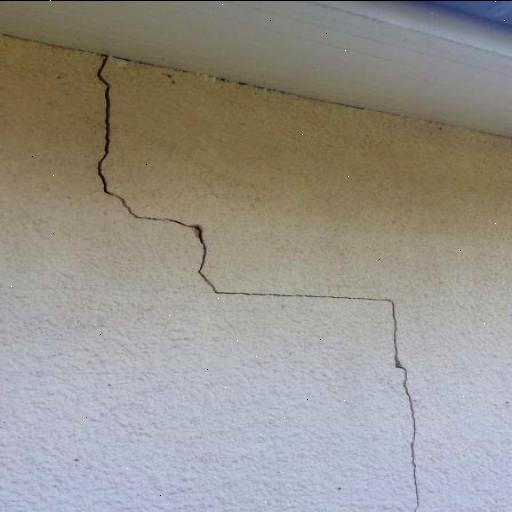spalling: (85, 65, 428, 508)
